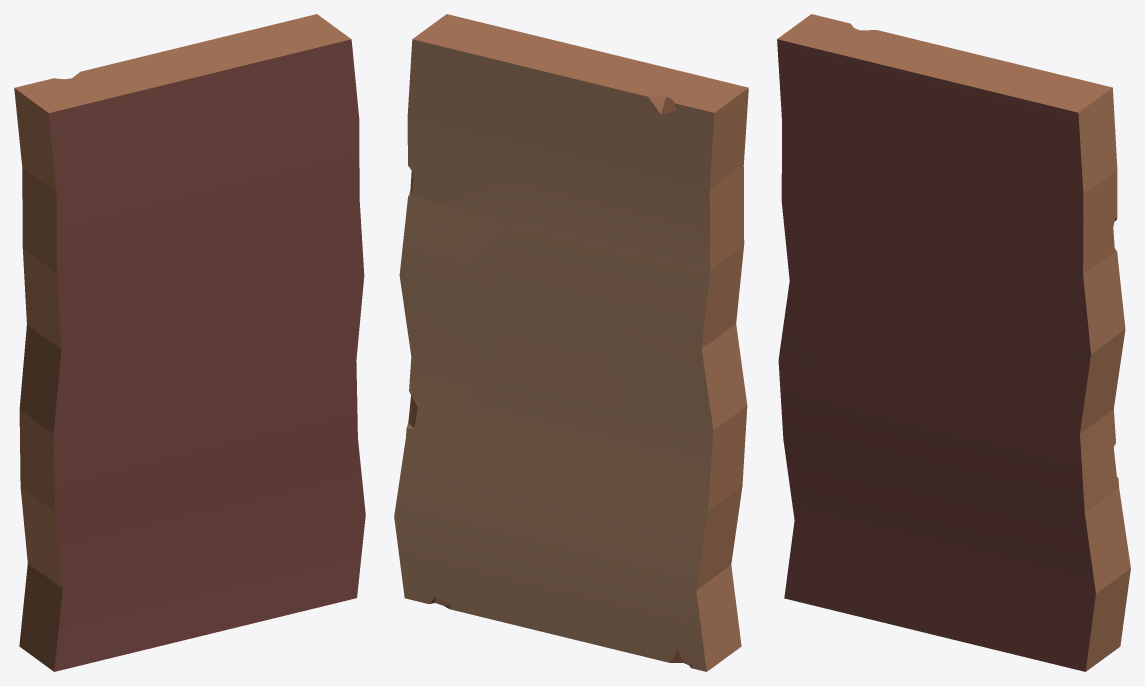
The model's file is countersides.fbx.
3 renders of one model, left to right at view 1: azimuth 30°, elevation 25°; view 2: azimuth 150°, elevation 25°; view 3: azimuth 330°, elevation 25°, orthographic.
Parts seen in each view (by area): view 1: TableTop.001; view 2: TableTop.001; view 3: TableTop.001.
Part boxes in pixels (x1,y1,x2,y2): TableTop.001: (14, 14, 365, 671); TableTop.001: (394, 14, 748, 671); TableTop.001: (777, 14, 1130, 671).
Bounding box in the file's own units: 0.4548 × 2.17 × 3.65.
